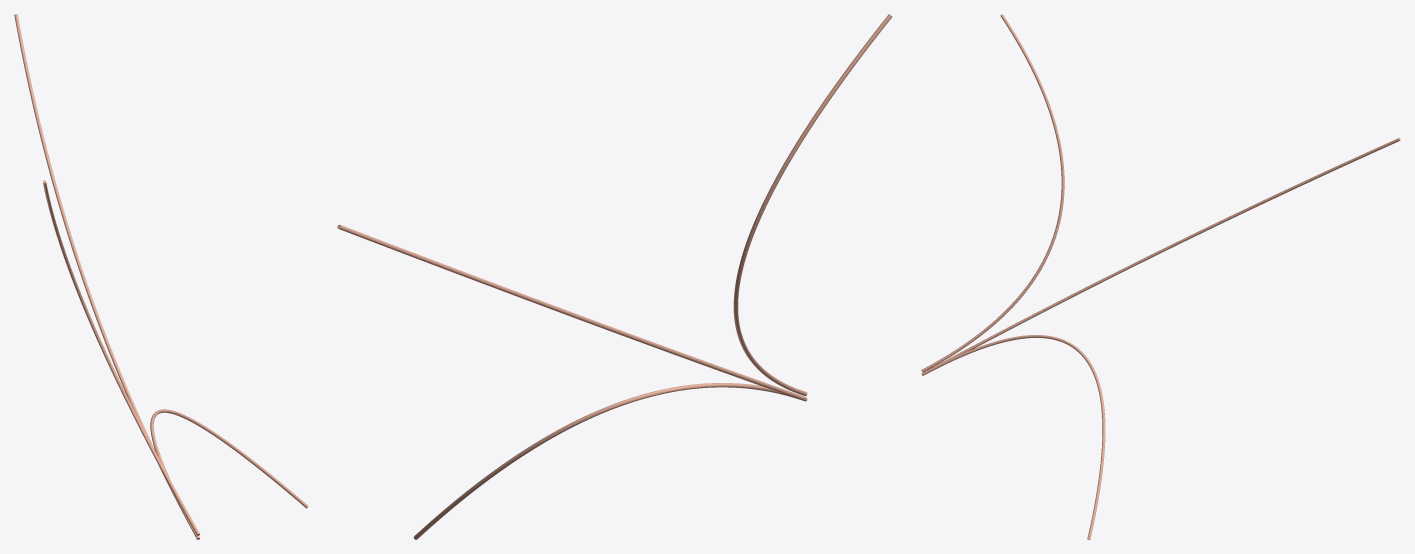
File: MenstrationSTRINGS.gltf
3 views of the same model, side by side, from view 1: azimuth 30°, elevation 25°; view 2: azimuth 150°, elevation 25°; view 3: azimuth 270°, elevation 25° (orthographic). The views are drawn at different scales.
Visible parts, largest first — view 1: MenstrationSTRINGS; view 2: MenstrationSTRINGS; view 3: MenstrationSTRINGS.
Boxes of the visible parts, <box> form: MenstrationSTRINGS: <box>14,14,308,539</box>; MenstrationSTRINGS: <box>337,14,892,539</box>; MenstrationSTRINGS: <box>921,14,1400,539</box>.
Bounding box in the file's own units: 10.53 × 14.06 × 15.63.
